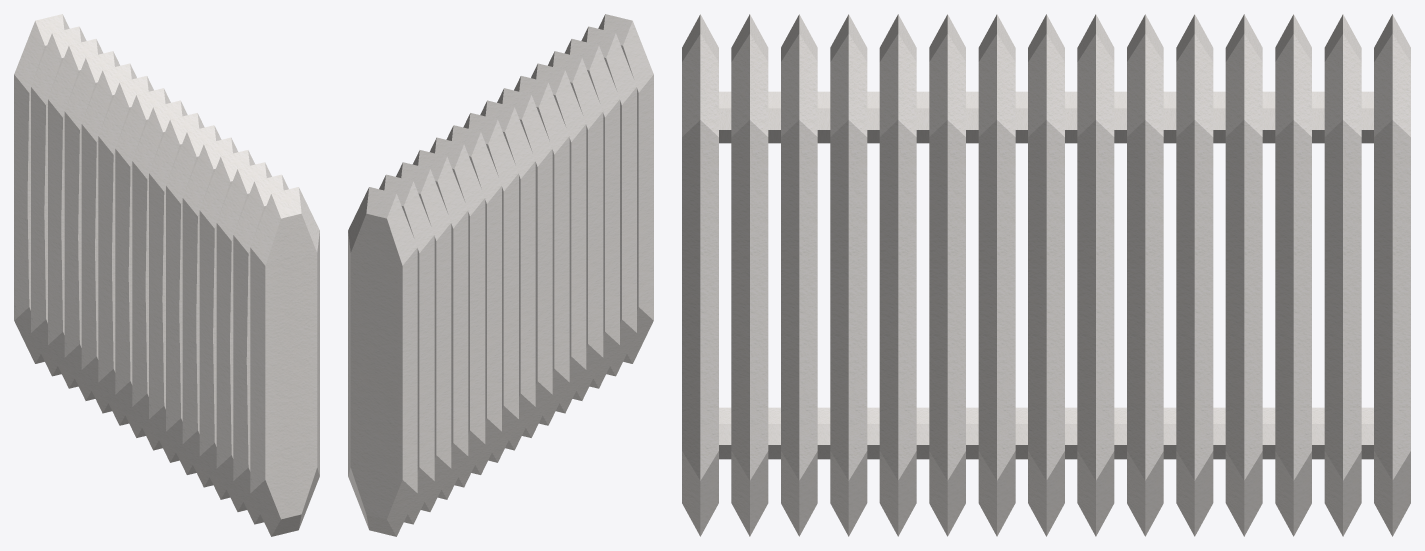
File: Radiator.fbx
3 renders of one model, left to right at view 1: azimuth 30°, elevation 25°; view 2: azimuth 150°, elevation 25°; view 3: azimuth 270°, elevation 25°, orthographic. The views are drawn at different scales.
Parts seen in each view (by area): view 1: Radiator, Last Part; view 2: Radiator, Last Part; view 3: Radiator, Last Part.
Boxes of the visible parts, box(x1,y1,x2,y2) form: Radiator: box(14, 14, 288, 524); Last Part: box(250, 187, 319, 536); Radiator: box(348, 26, 636, 536); Last Part: box(598, 14, 653, 363); Radiator: box(719, 14, 1410, 536); Last Part: box(682, 14, 718, 536).
Bounding box in the file's own units: 18.55 × 87.52 × 115.
